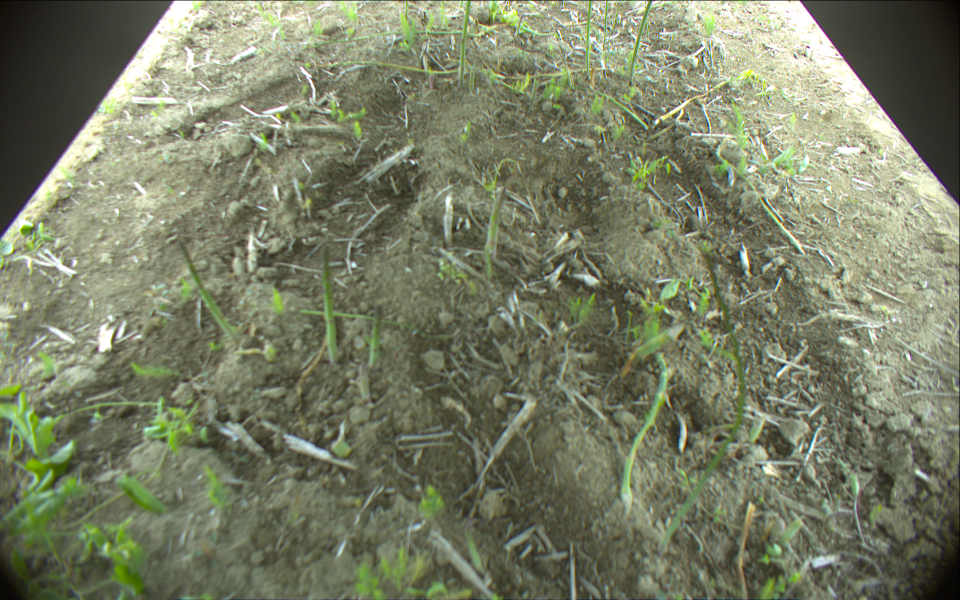aspa: (661, 237, 748, 551), (715, 142, 804, 253), (620, 353, 670, 505), (177, 239, 237, 342), (577, 87, 647, 130), (320, 29, 465, 46), (629, 1, 655, 83), (323, 59, 461, 74), (484, 187, 508, 264), (323, 244, 338, 366), (368, 305, 383, 370), (460, 1, 469, 86), (601, 1, 612, 53), (586, 1, 593, 76), (516, 14, 531, 35)
